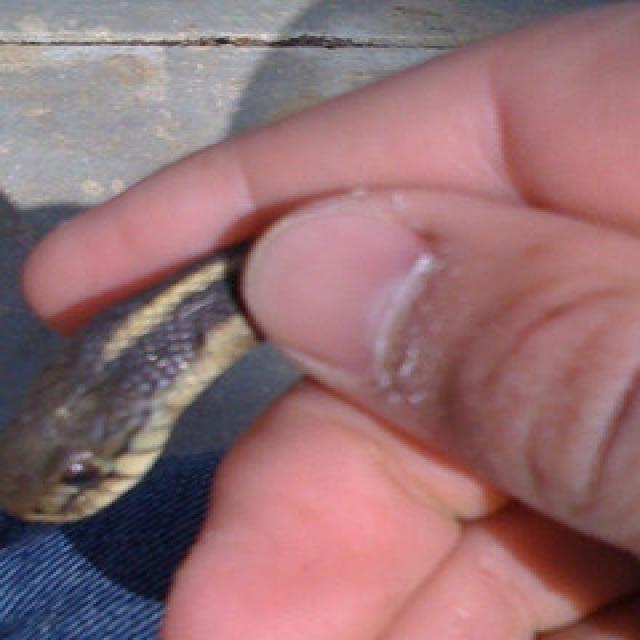Snake: (0, 230, 640, 640)
